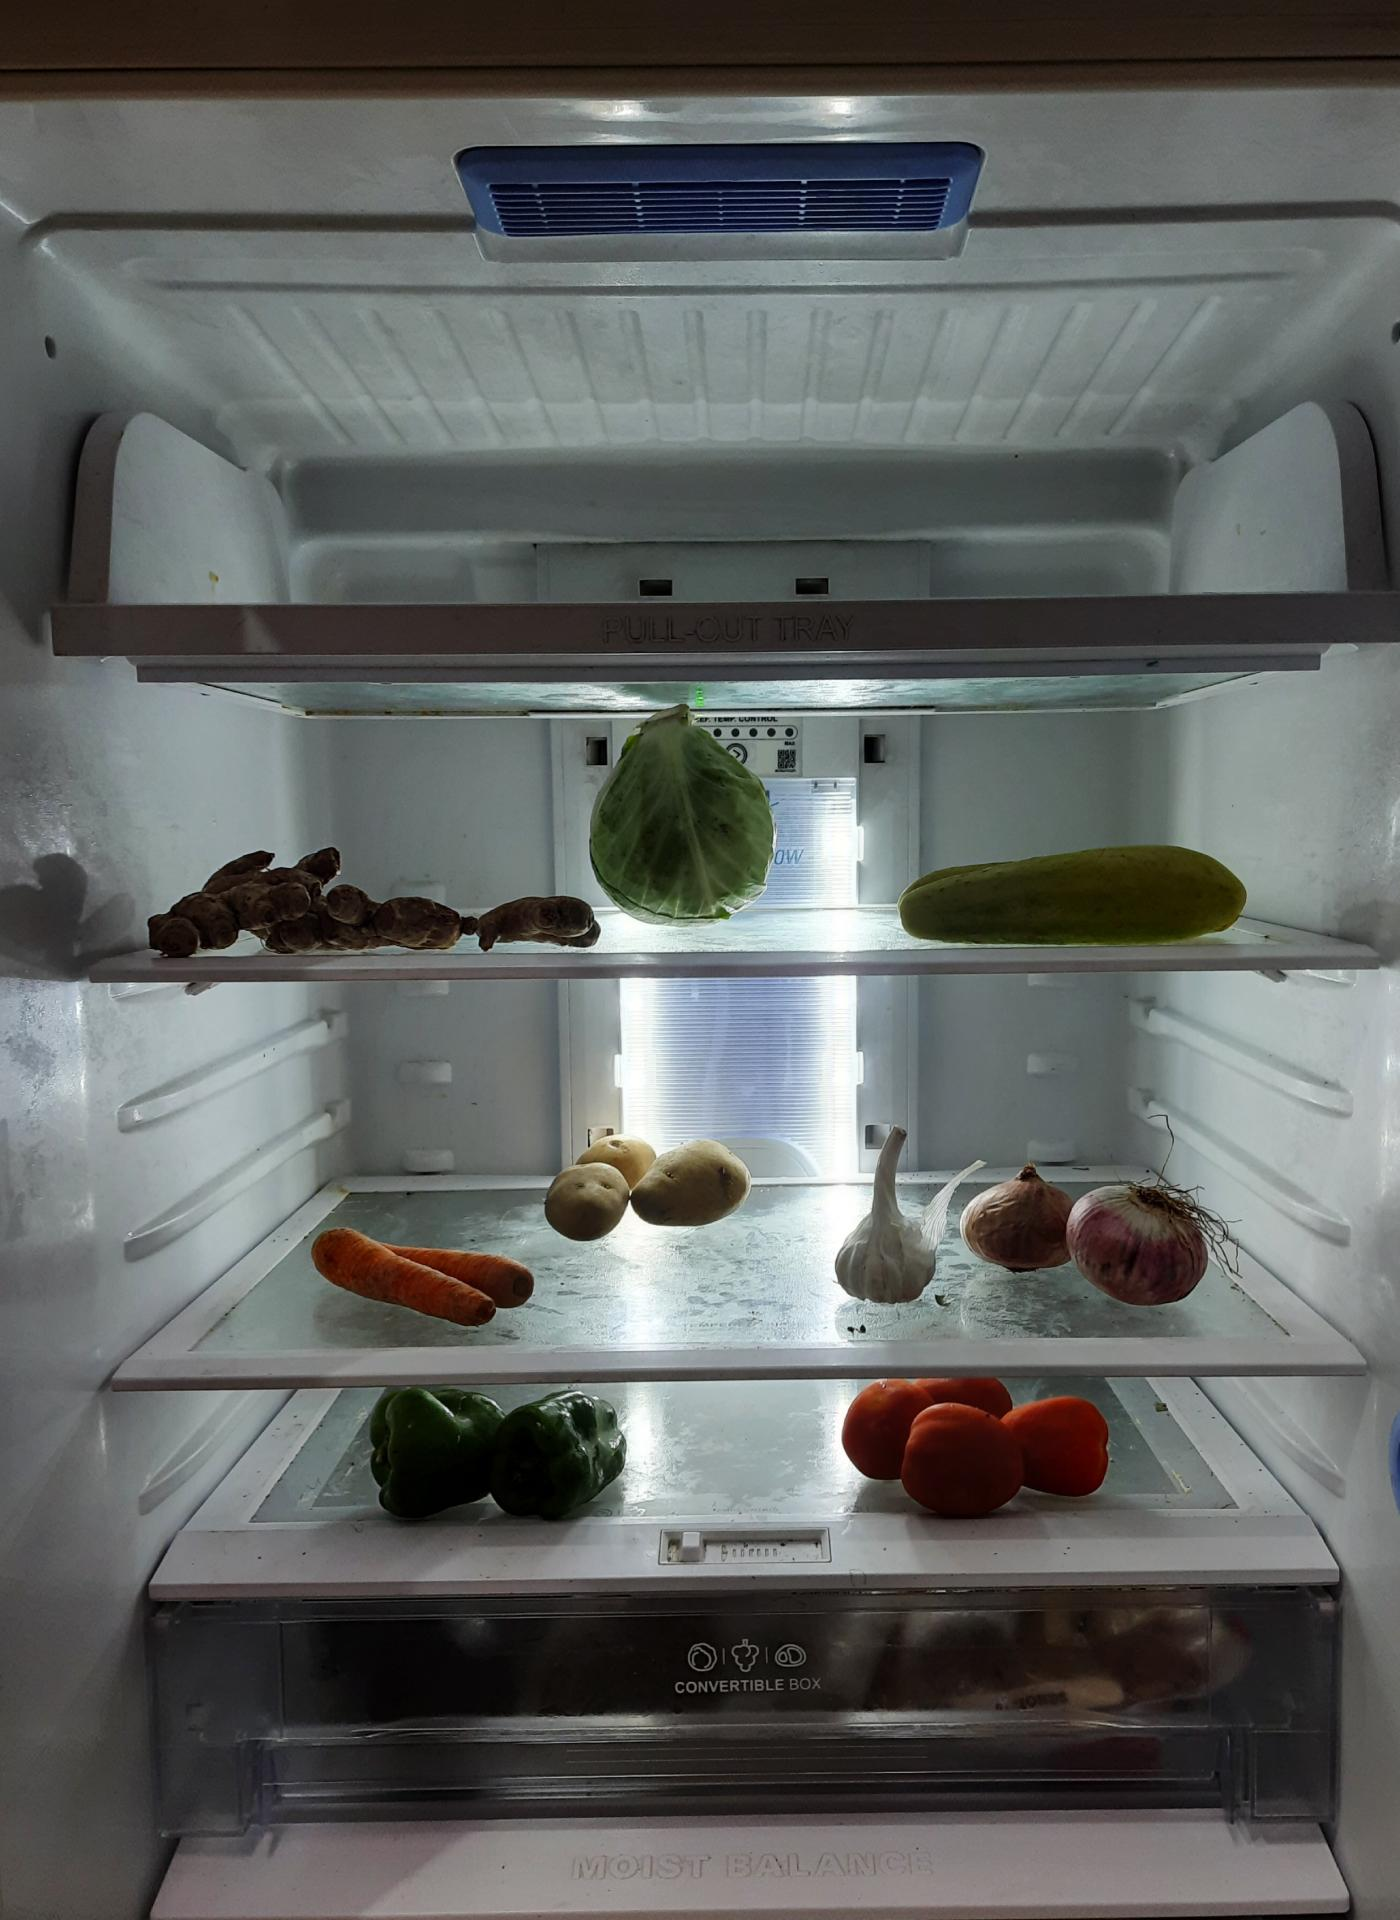cabbage: (584, 721, 780, 926)
capsicum: (374, 1383, 625, 1522)
carrots: (306, 1224, 543, 1334)
cucumber: (893, 832, 1254, 941)
garlic: (839, 1115, 938, 1298)
ginger: (137, 838, 558, 954)
onion: (965, 1170, 1208, 1309)
potato: (543, 1128, 759, 1248)
tomato: (839, 1376, 1121, 1515)
